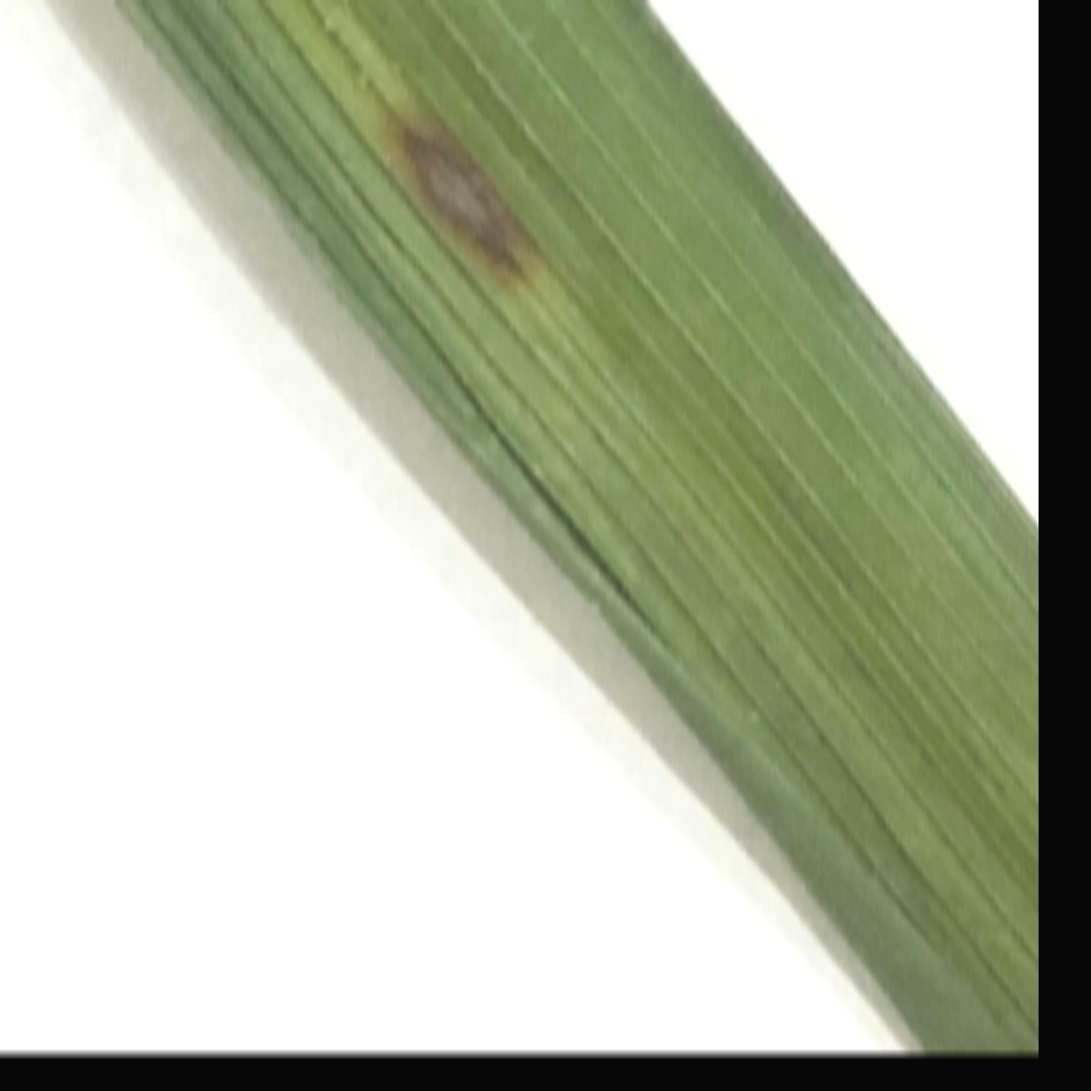Brown_Spot: (383, 59, 543, 303)
